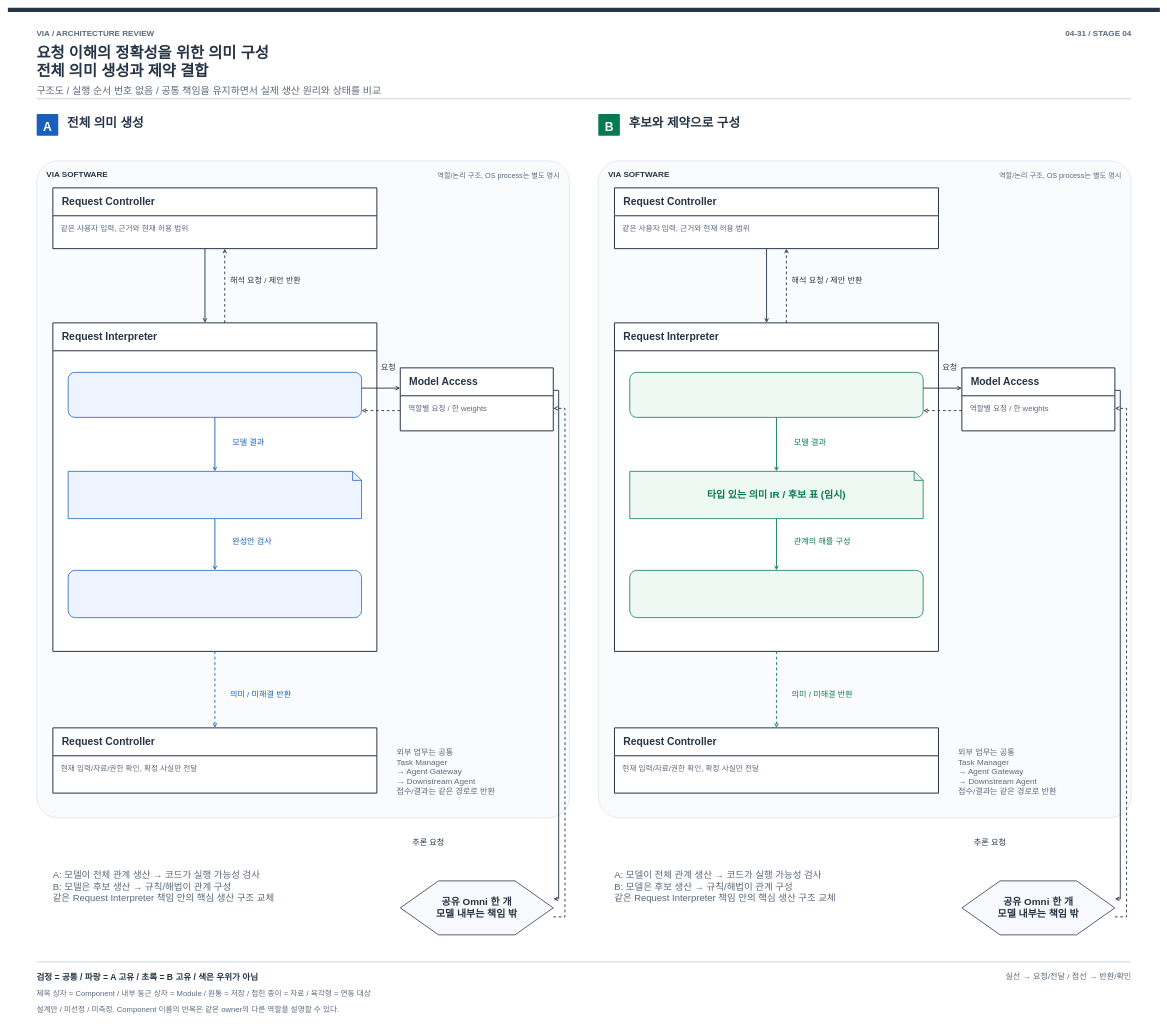
Some shapes in this 1167 by 1024 pixel diagram are drawn without their labels. The centre of each missing label's shape, as x and y in pixels:
완성된 전체 관계 제안 (임시): point 215,495
제안 검증: point 215,594
제약 해결 / 충돌 질문 생성: point 776,594
통합 의미 생성: point 215,395
표현 변환 / 후보 생산: point 776,395
